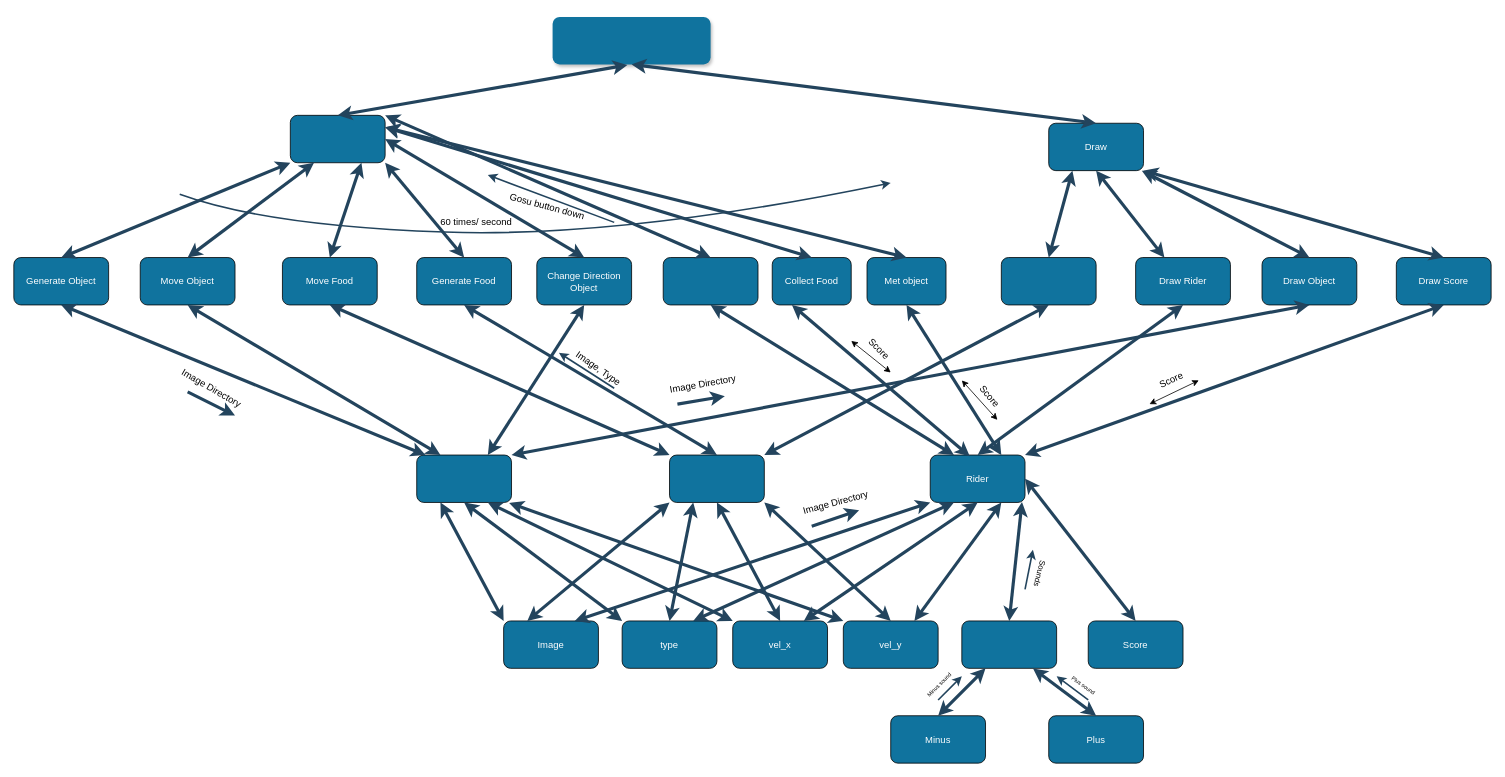
Image size: 1505x777. Some labels were removed from this diagram. The centre of each missing label's shape, as x and y in pixels:
"Draw Food" belongs at (x=1048, y=281).
"Food" belongs at (x=716, y=478).
"Food Hunter Game" belongs at (x=632, y=41).
"Move Player" belongs at (x=710, y=281).
"Object" belongs at (x=464, y=478).
"Sound" belongs at (x=1009, y=644).
"Update" belongs at (x=337, y=139).
